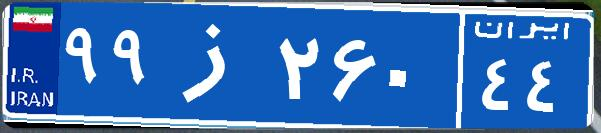0: (385, 28, 445, 110)
2: (273, 28, 330, 110)
4: (475, 38, 525, 113), (525, 38, 570, 115)
6: (330, 28, 385, 110)
9: (57, 26, 110, 107), (110, 28, 158, 105)
ز: (158, 15, 273, 115)
